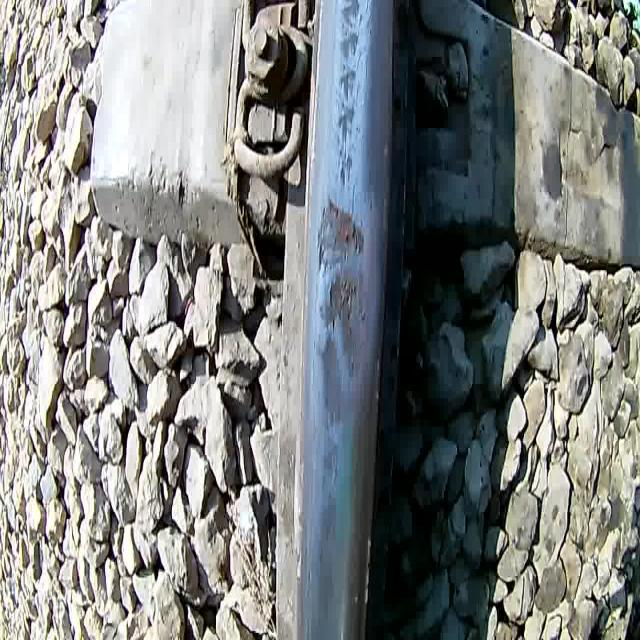Spallings: (313, 195, 368, 276)
Squats: (310, 272, 369, 630), (332, 0, 366, 195)
